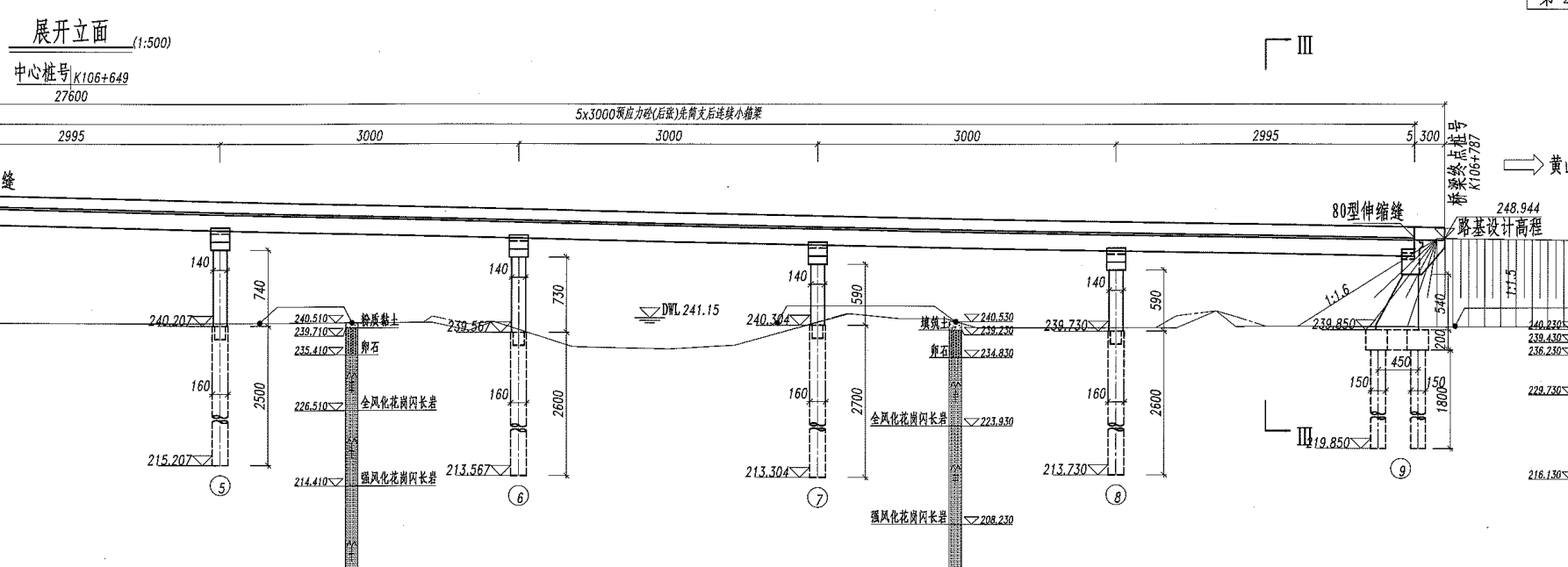A: (1, 86, 1454, 114)
B: (4, 106, 1423, 133)
C: (732, 237, 846, 512), (444, 232, 550, 512), (1032, 241, 1140, 512), (140, 221, 241, 503), (1298, 311, 1435, 479)
D: (622, 299, 723, 327)
